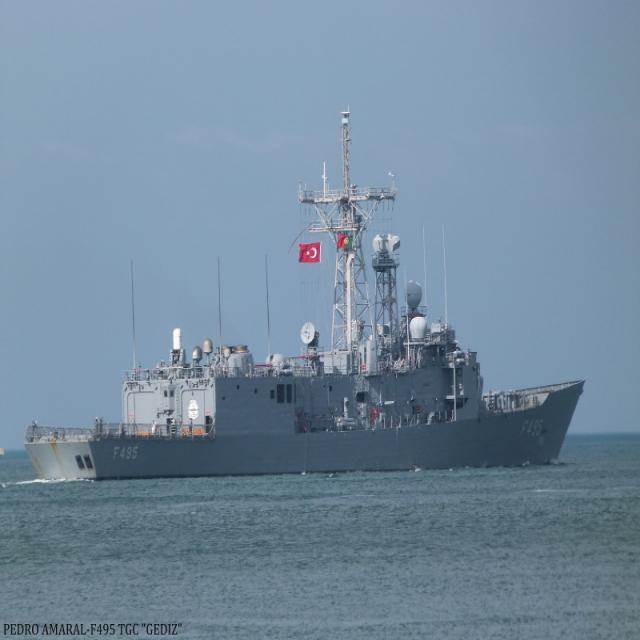Fragata: (18, 97, 588, 488)
